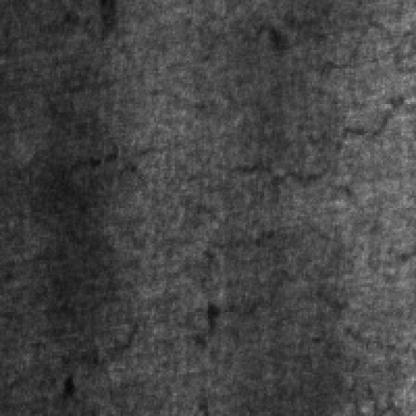crazing: (198, 17, 397, 183)
